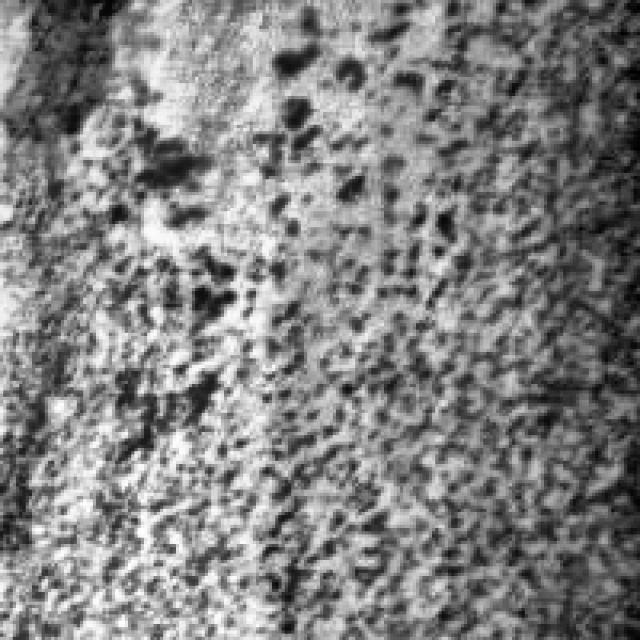Rolled_in_Scale: (192, 3, 630, 630), (45, 12, 320, 612)
Scratches: (3, 0, 128, 144)
